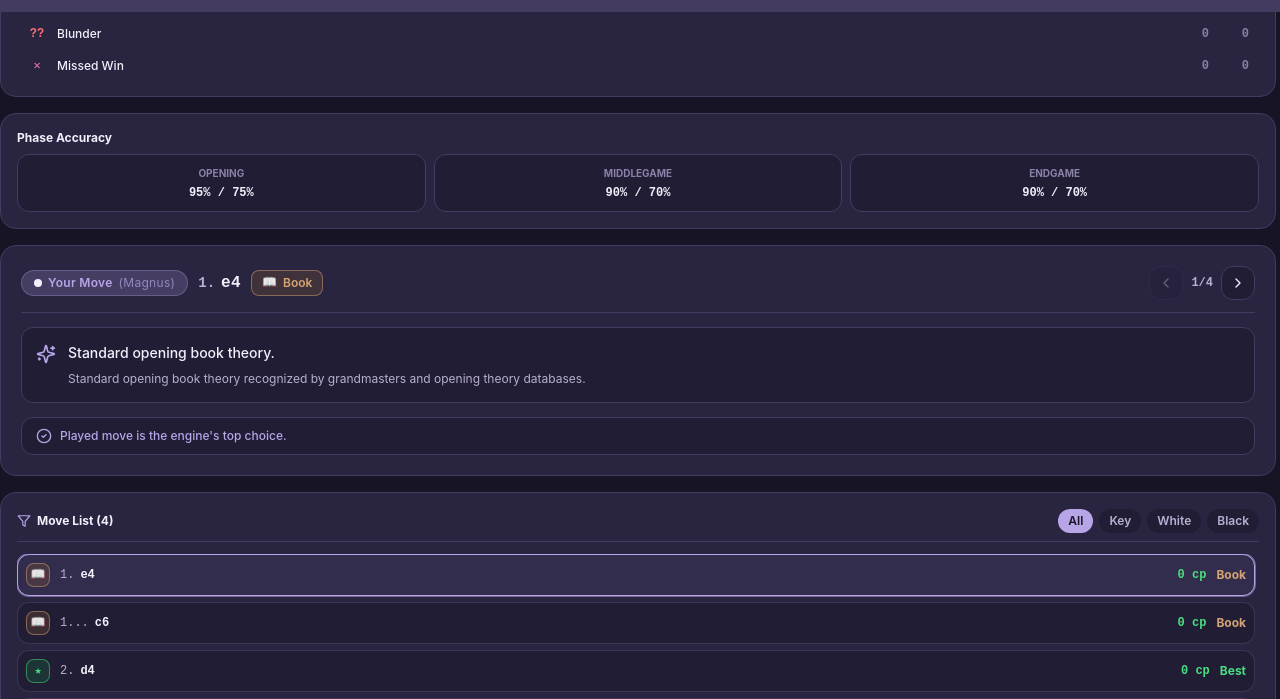
it: GameReviewDashboard Interactive Move Review › filters moves by category pill
(page scrolled)
# Click 'Key' filter
What coordinates should you click on to do the following:
click the button "Key"
I would click on:
 (1120, 521)
Its box is 1099,509 -> 1141,533.
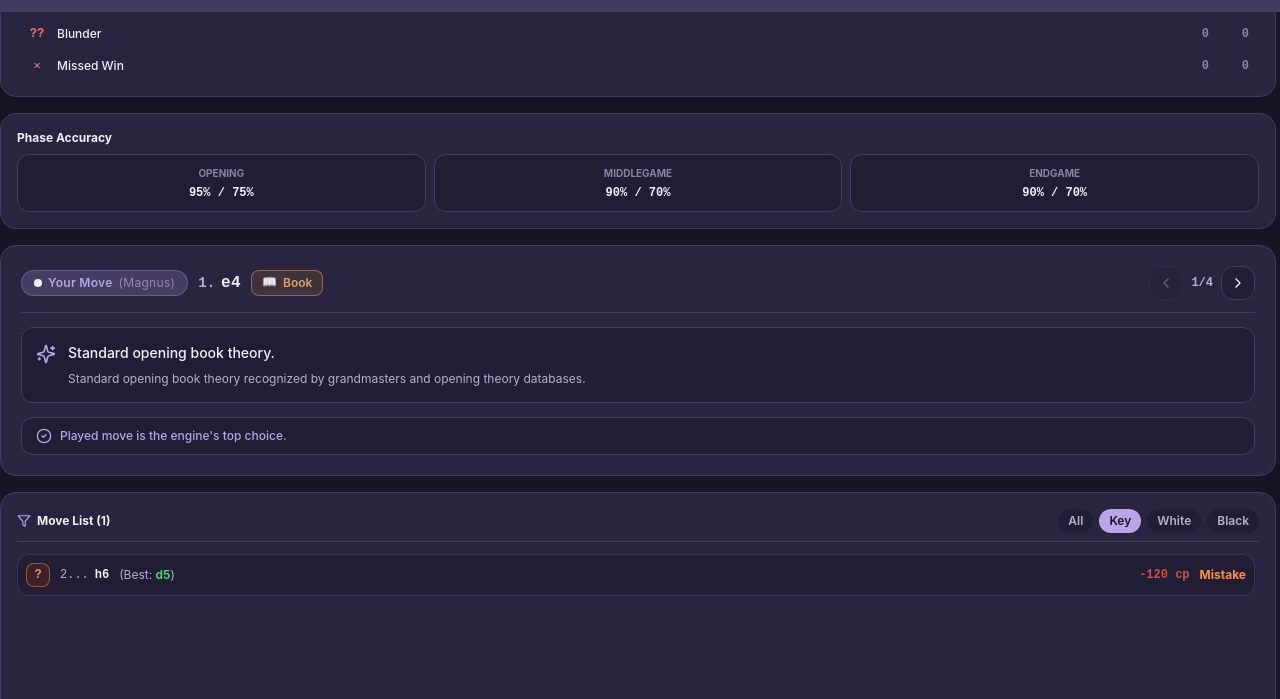
Expected: the text "Move List (1)" is shown, 37,513 -> 110,529
